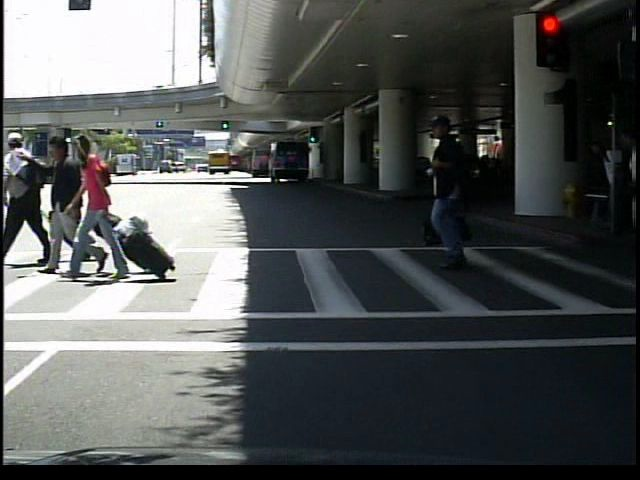person: (415, 113, 501, 270)
